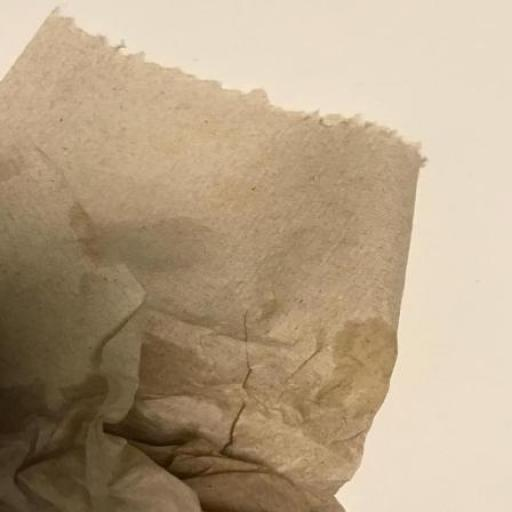paper: (0, 4, 429, 512)
